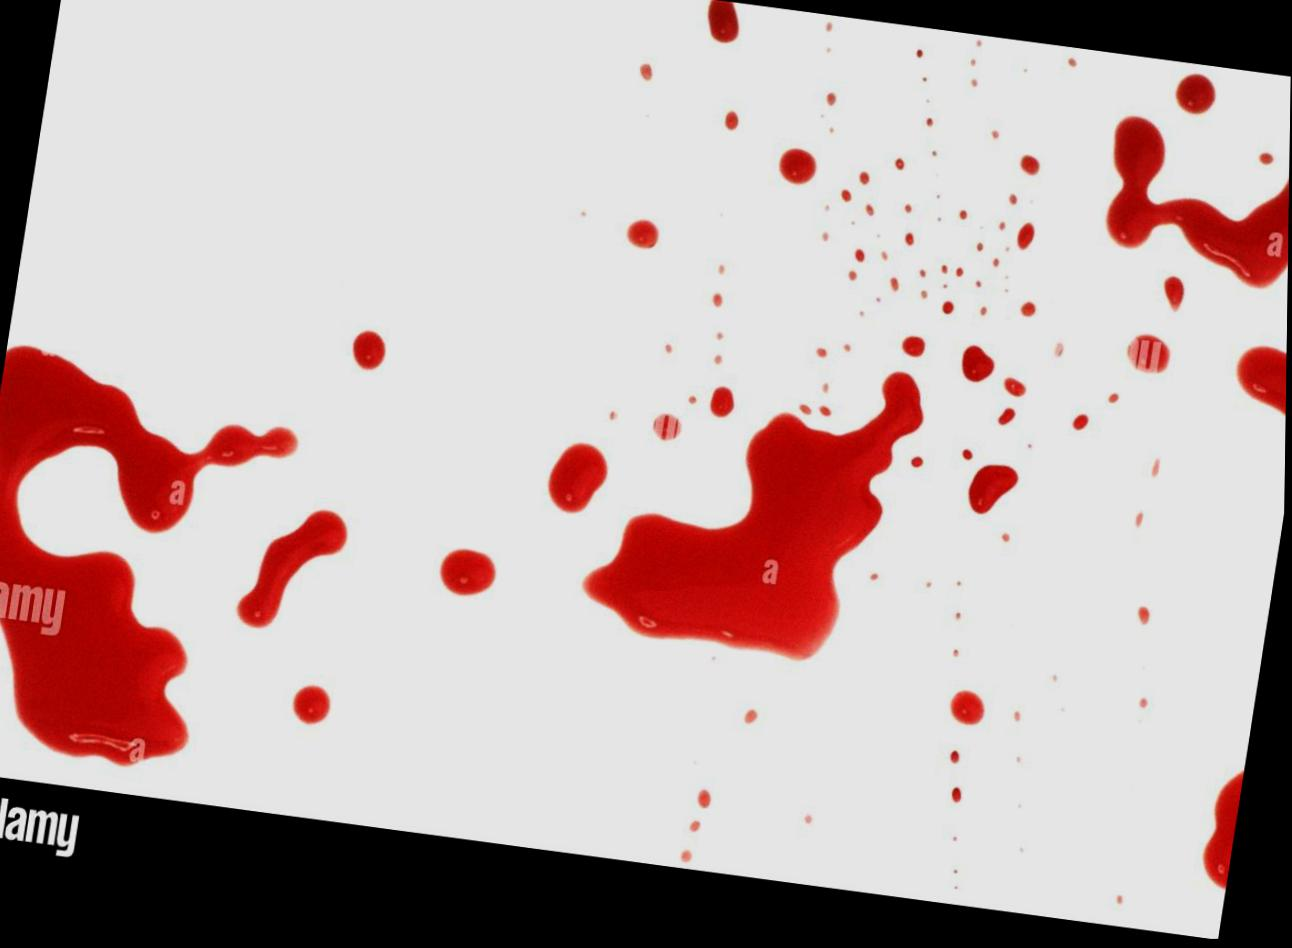Fire: (0, 345, 298, 766), (583, 373, 924, 662), (1106, 116, 1290, 290), (238, 509, 347, 628), (549, 442, 609, 514), (1236, 347, 1288, 418), (440, 548, 498, 597), (969, 465, 1019, 516), (1175, 75, 1216, 116), (294, 684, 332, 725), (707, 0, 739, 44), (778, 148, 817, 185), (353, 331, 386, 371), (962, 346, 995, 383), (952, 691, 986, 726), (625, 220, 659, 250), (1163, 277, 1186, 313), (710, 386, 735, 418), (902, 337, 926, 359)
